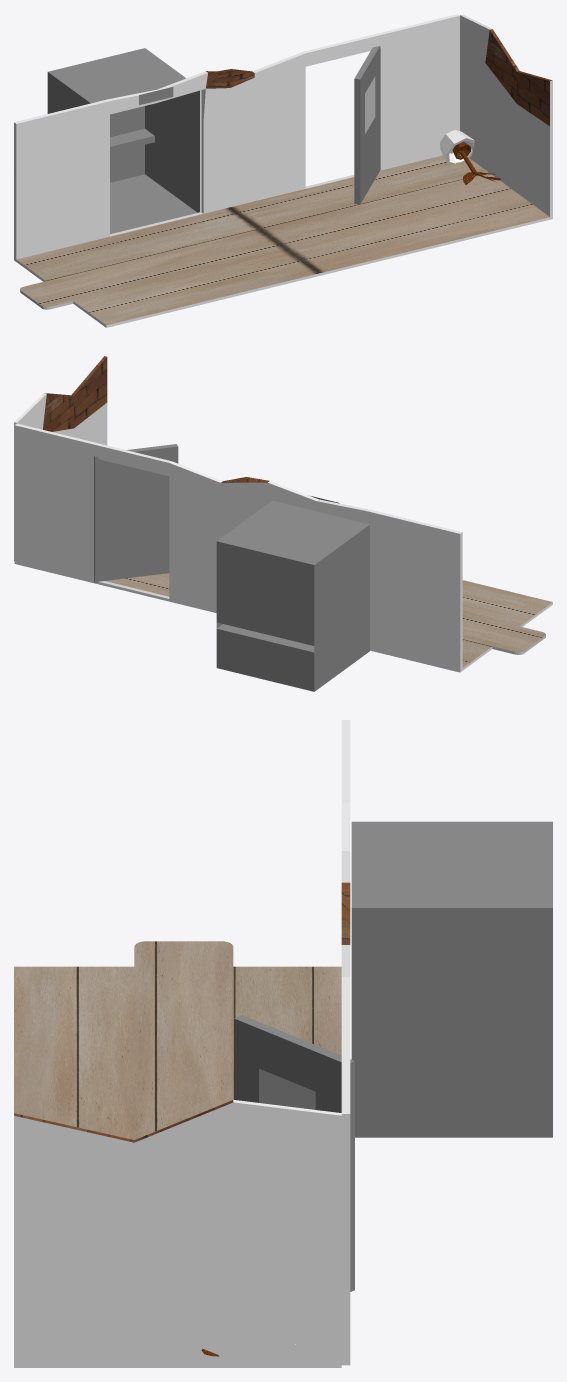
Rendered from pasillo.glb.
3 views of the same model, one above another, from view 1: azimuth 30°, elevation 25°; view 2: azimuth 150°, elevation 25°; view 3: azimuth 270°, elevation 25° (orthographic). The views are drawn at different scales.
Visible parts, largest first — view 1: Cubo, Cubo.001, Cubo.002, Cilindro.003; view 2: Cubo, Cubo.001, Cubo.002; view 3: Cubo, Cubo.001, Cubo.002.
Boxes of the visible parts, x1,y1,x2,y2 form: Cubo: (14,14,552,327); Cubo.001: (47,48,200,234); Cubo.002: (354,46,380,204); Cilindro.003: (440,130,474,164); Cubo: (14,356,552,672); Cubo.001: (216,500,369,691); Cubo.002: (94,444,178,582); Cubo: (14,720,350,1367); Cubo.001: (351,821,552,1137); Cubo.002: (234,1015,354,1291).
Size of the model in its own units: 28.24 by 8.17 by 14.92.
8 materials, 4 textured.
